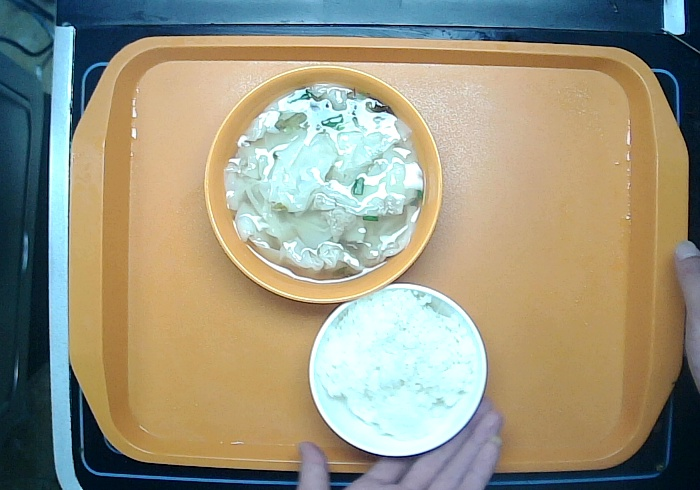NLDX-Fan_Wan: (305, 283, 491, 461)
NLDX-Hun_Tun_Wan: (199, 55, 450, 302)
